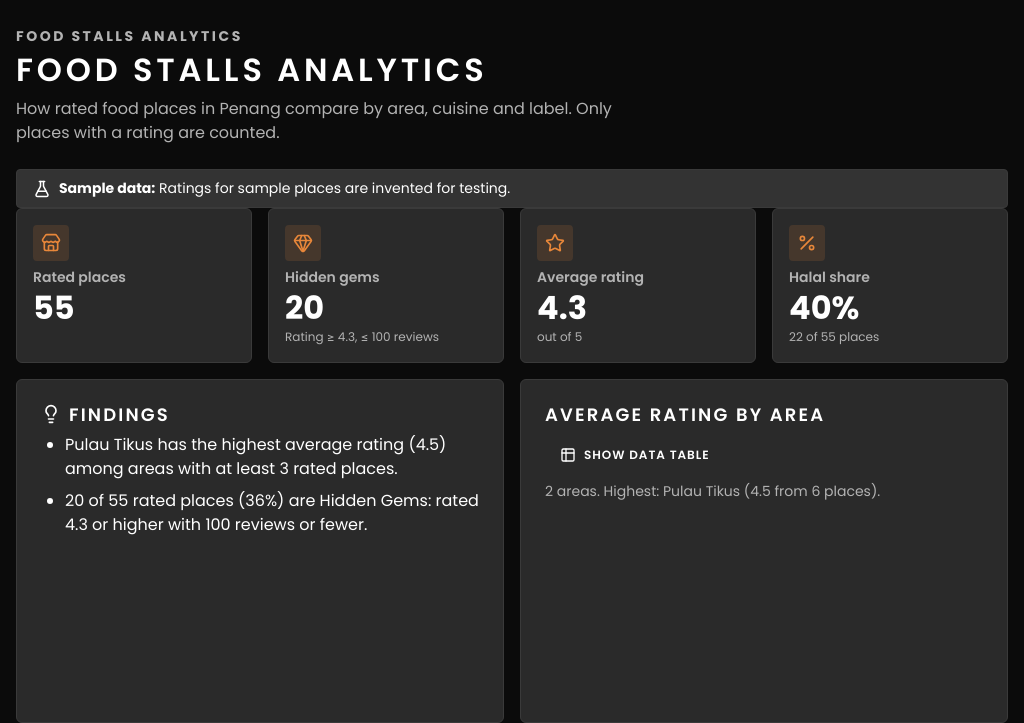
Test: FoodStallsAnalyticsPage › each chart has a data table fallback
Click the button "Show data table" below "Average rating by area": click(635, 455) [545,433,725,477]
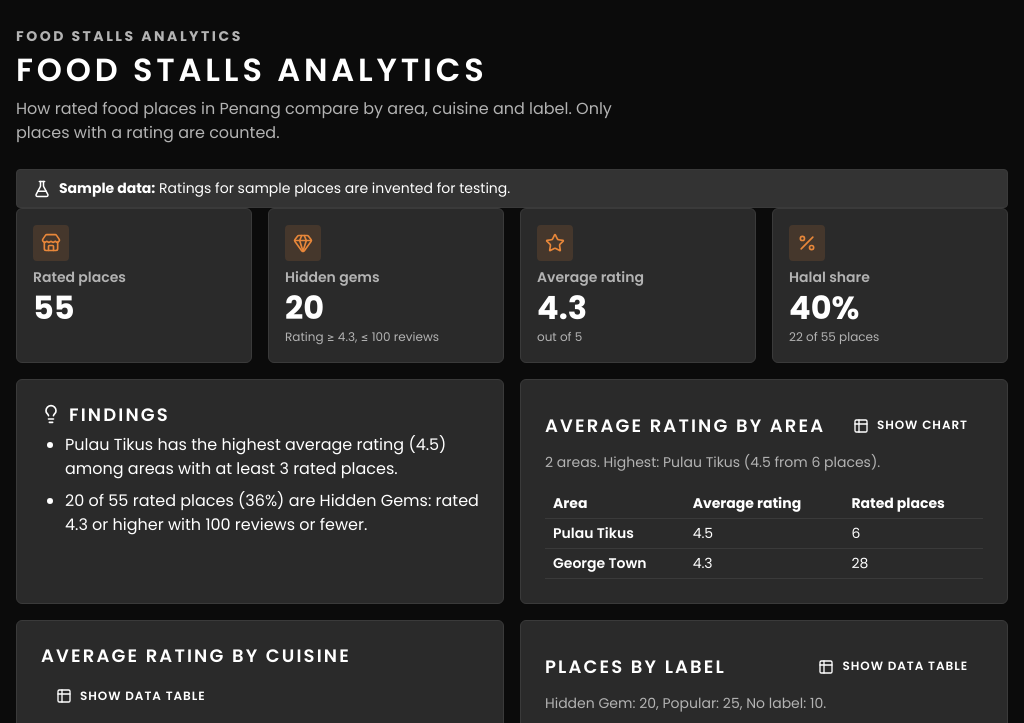
Expected: the column heading "Pulau Tikus" is shown, [545,519,685,548]
Expected: the text "4.5" is shown, [685,519,843,548]
